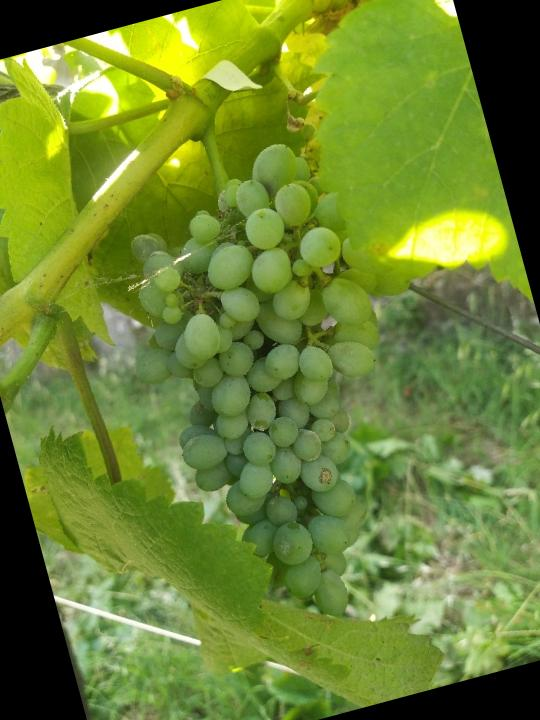grape: (101, 124, 460, 654)
